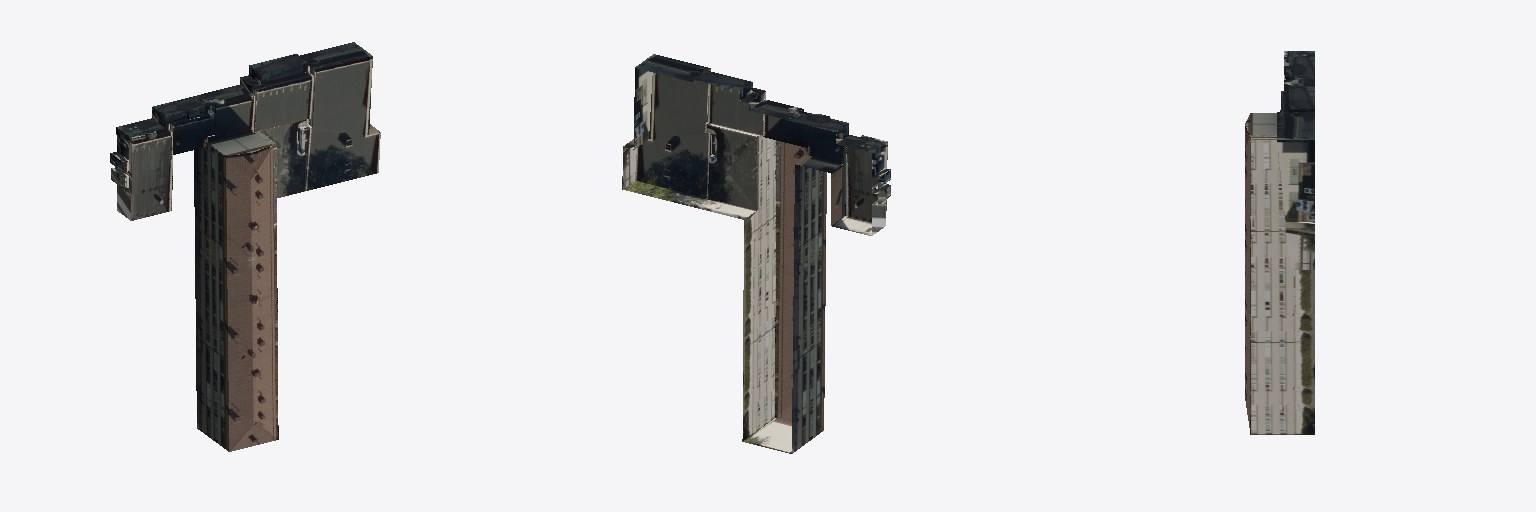
The picture shows the model from 3 angles: view 1: azimuth 30°, elevation 25°; view 2: azimuth 150°, elevation 25°; view 3: azimuth 270°, elevation 25°; orthographic projection.
Parts seen in each view (by area): view 1: talo_Build[number redacted]; view 2: talo_Build[number redacted]; view 3: talo_Build[number redacted].
Part boxes in pixels (x1,y1,x2,y2): talo_Build[number redacted]: (110,42,380,451); talo_Build[number redacted]: (622,54,890,453); talo_Build[number redacted]: (1245,51,1314,434).
Size of the model in its own units: 5.78 by 7.56 by 1.38.
88 materials, 63 textured.